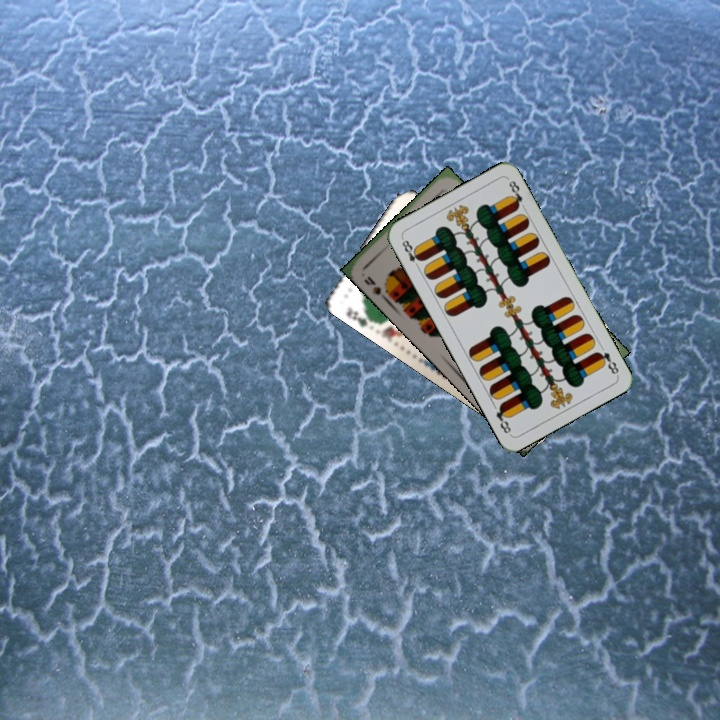E8: (398, 234, 425, 272), (592, 348, 621, 378)
GK: (342, 303, 376, 330)
S9: (360, 272, 394, 303)
